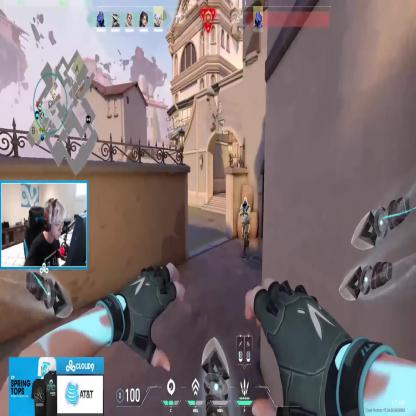enemy: (238, 197, 250, 256)
enemy_head: (243, 196, 247, 206)
